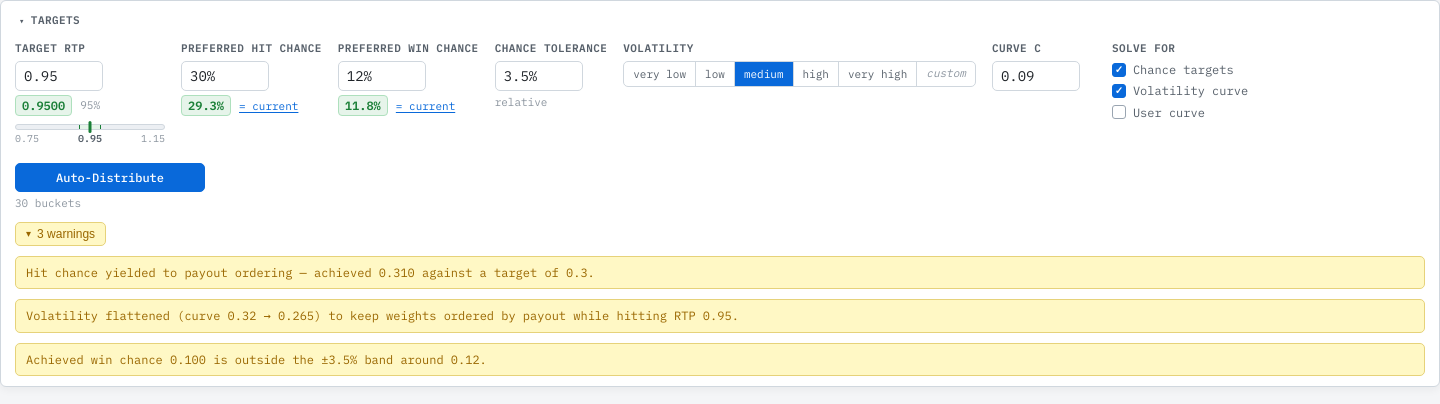
TargetsPanel warnings › folds the details behind the count and unfolds them again
Click the button "▾ 3 warnings" at (61, 234), box [15, 222, 106, 246]
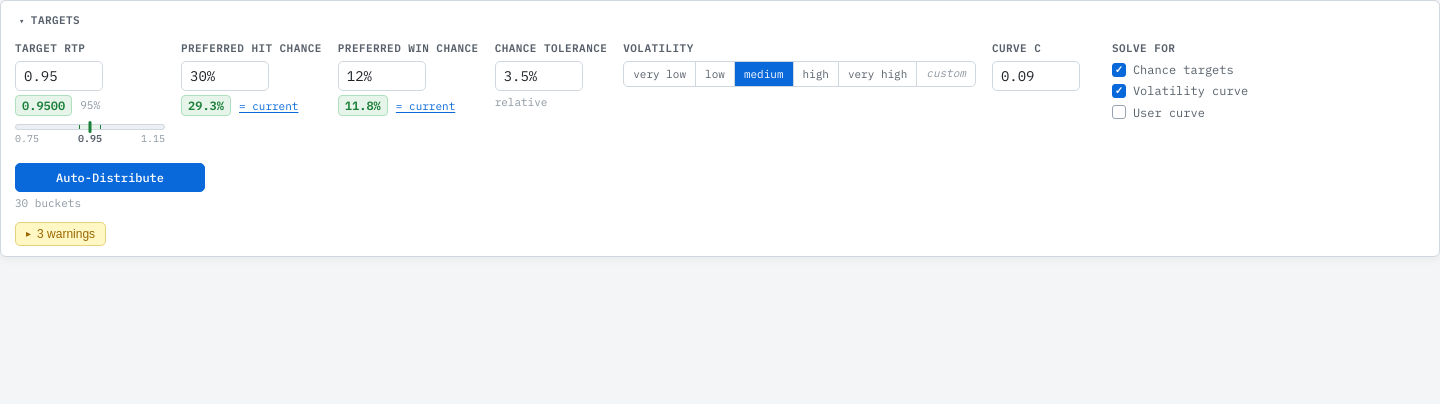
Now no elements with class "warn" are shown
Now the button "▸ 3 warnings" is collapsed
Click the button "▸ 3 warnings" at (61, 234), box [15, 222, 106, 246]
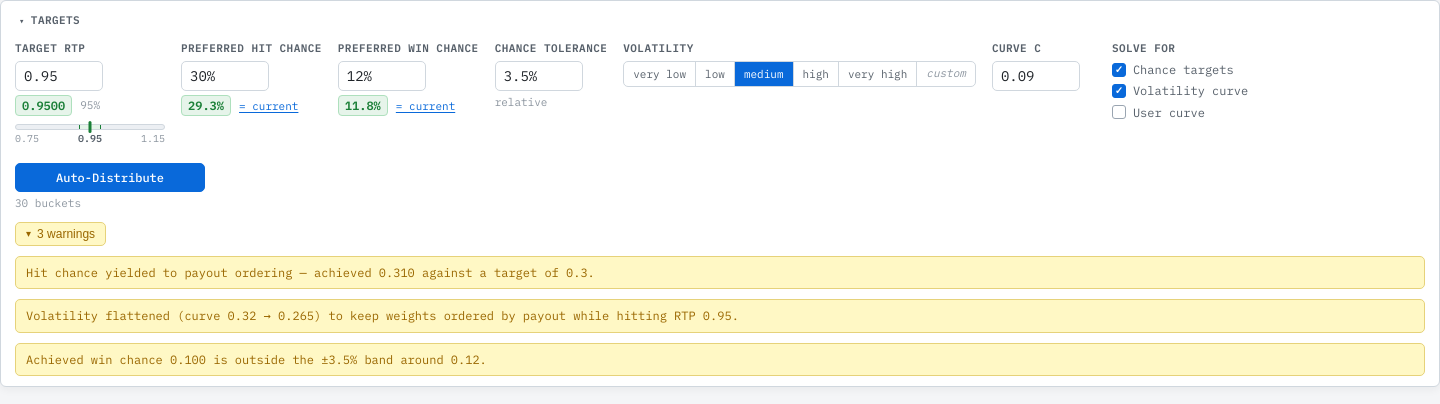
Now the number of elements with class "warn" is 3, box [15, 256, 1425, 289]; [15, 299, 1425, 333]; [15, 342, 1425, 376]
